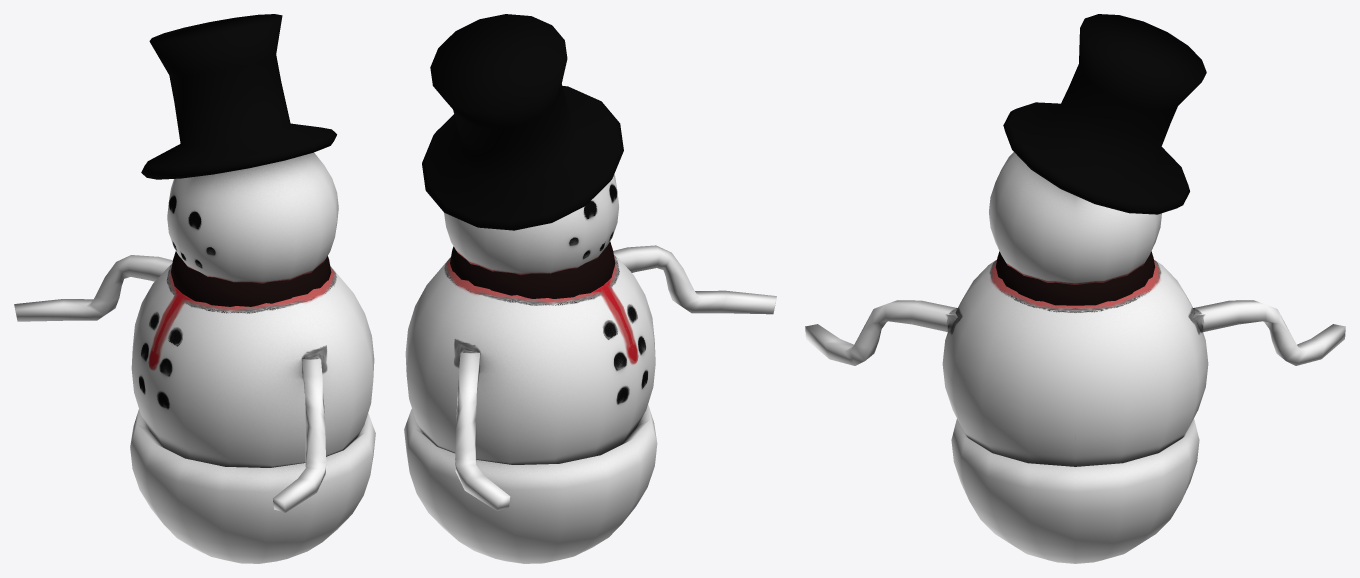
Rendered from boneco de neve.fbx.
3 renders of one model, left to right at view 1: azimuth 30°, elevation 25°; view 2: azimuth 150°, elevation 25°; view 3: azimuth 270°, elevation 25°, orthographic. The views are drawn at different scales.
Visible parts, largest first — view 1: Esfera UV.001, Cilindro; view 2: Esfera UV.001, Cilindro; view 3: Esfera UV.001, Cilindro.
Part boxes in pixels (x1,y1,x2,y2): Esfera UV.001: [14, 152, 375, 563]; Cilindro: [141, 14, 336, 179]; Esfera UV.001: [404, 174, 776, 563]; Cilindro: [422, 14, 623, 230]; Esfera UV.001: [805, 152, 1345, 563]; Cilindro: [1003, 14, 1206, 214].
Size of the model in its own units: 226 by 513 by 488.
